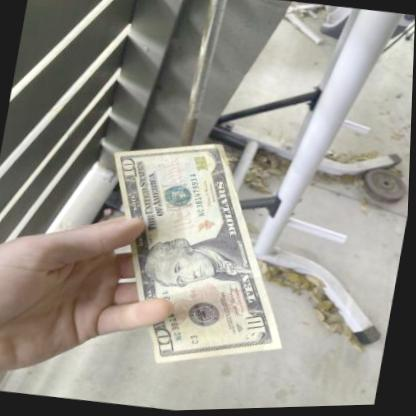dollar_front: (115, 144, 286, 363)
